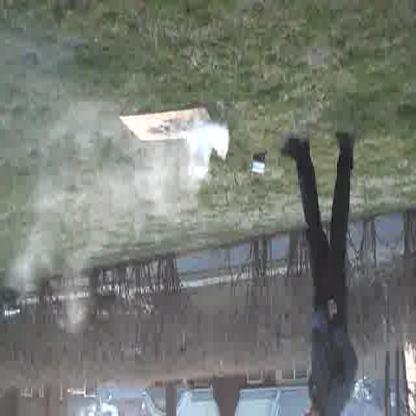Smoke: (43, 124, 225, 206)
